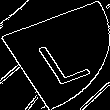L_NW: (22, 25, 88, 85)
